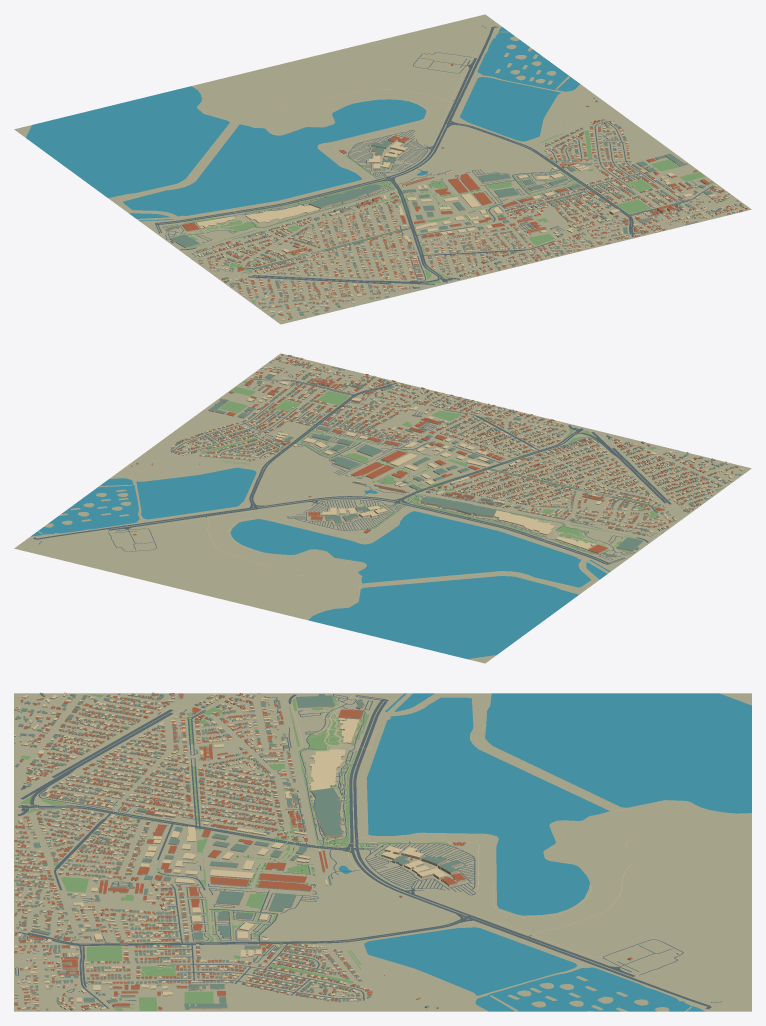
The model's file is region-lod0.glb.
3 renders of one model, top to bottom at view 1: azimuth 30°, elevation 25°; view 2: azimuth 150°, elevation 25°; view 3: azimuth 270°, elevation 25°, orthographic. The views are drawn at different scales.
Bounding box in the file's own units: 3180 × 15.03 × 3117.
